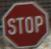Stop sign: (0, 0, 50, 48)
